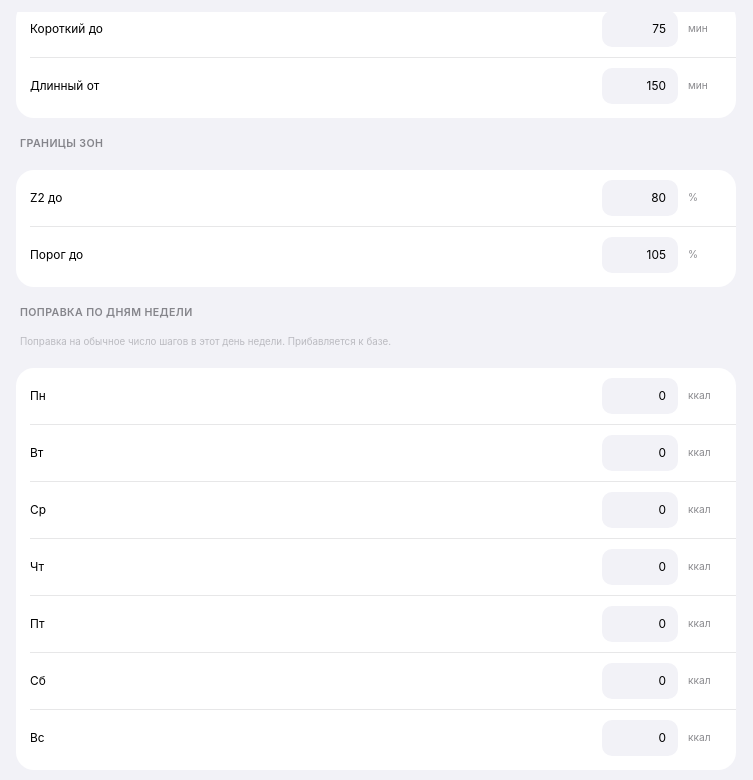
the weekday adjustment › totals each day against the base, live
(page scrolled)
Step 1. Replace the text in the field named "Пн" with "-150" → x=640, y=396, box [602,378,678,414]
(page scrolled)
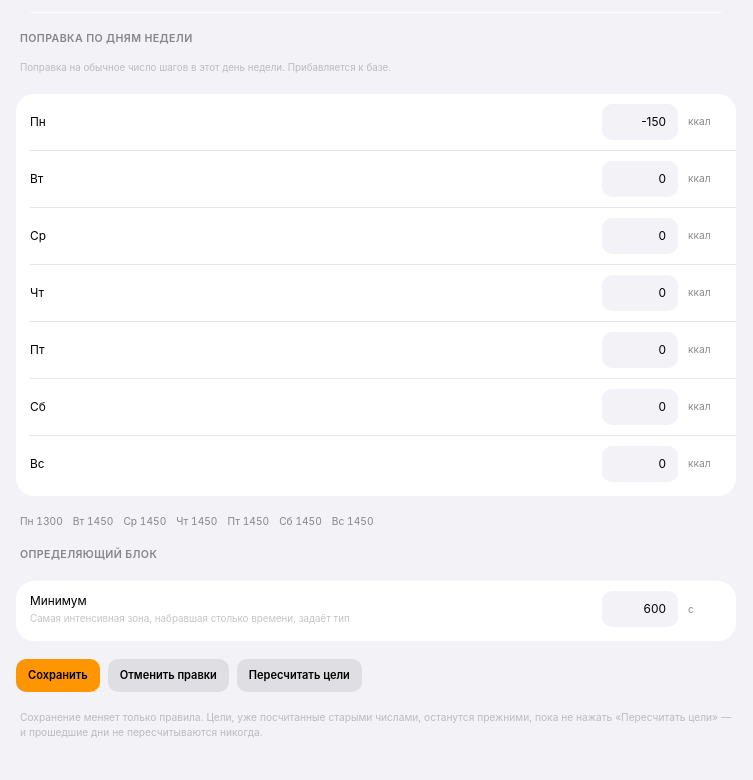
Expected: the text "Пн 1300" is shown, [20,514,63,529]
Expected: the text "Вт 1450" is shown, [73,514,113,529]
